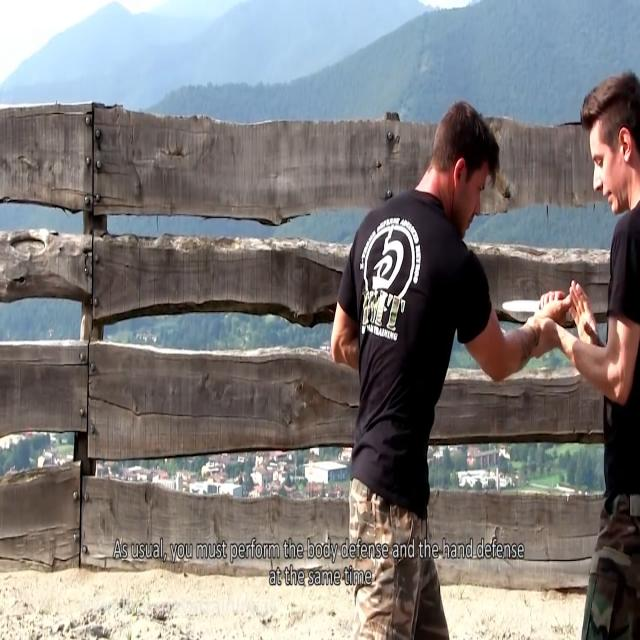knife: (501, 296, 543, 320)
